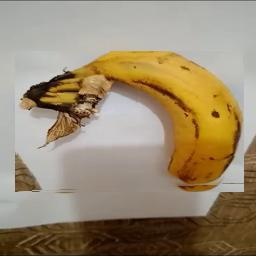Banana Semifresh: (16, 52, 245, 193)
